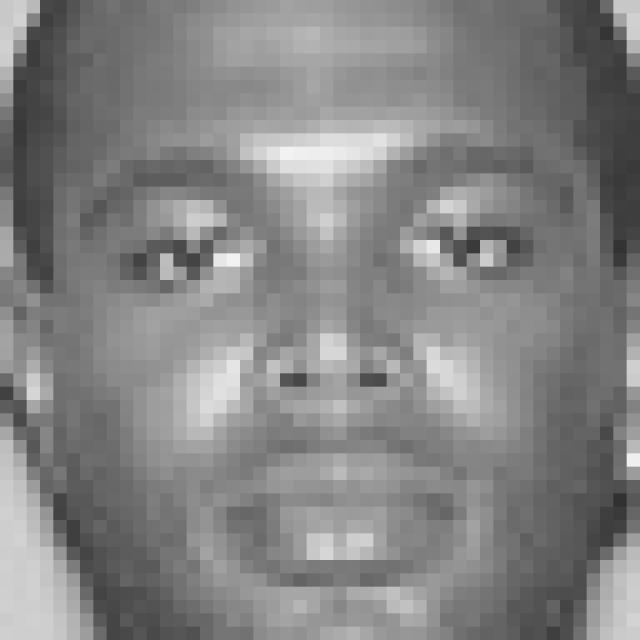neutral: (91, 128, 576, 588)
